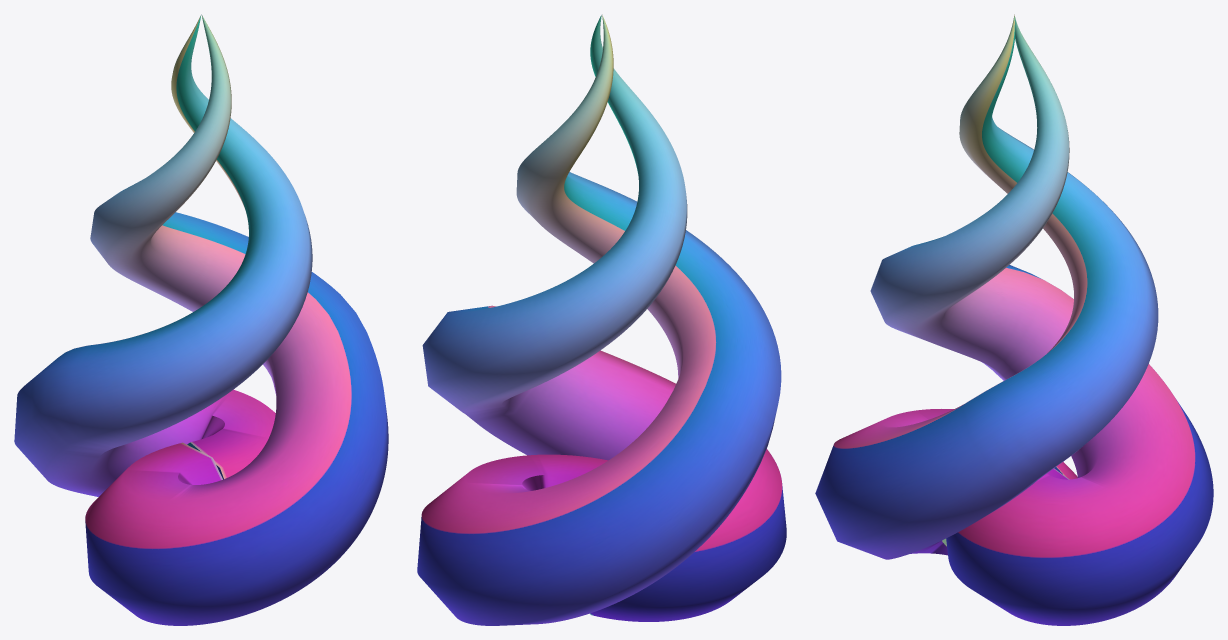
Rendered from CAT_EYEBALL02.dae.
3 views of the same model, side by side, from view 1: azimuth 30°, elevation 25°; view 2: azimuth 150°, elevation 25°; view 3: azimuth 270°, elevation 25° (orthographic). The views are drawn at different scales.
Parts seen in each view (by area): view 1: Sweep; view 2: Sweep; view 3: Sweep.
Boxes of the visible parts, <box> form: Sweep: <box>14,14,388,625</box>; Sweep: <box>417,14,786,625</box>; Sweep: <box>815,14,1213,625</box>.
Size of the model in its own units: 35.79 by 60.25 by 37.97.
1 material, 1 textured.
